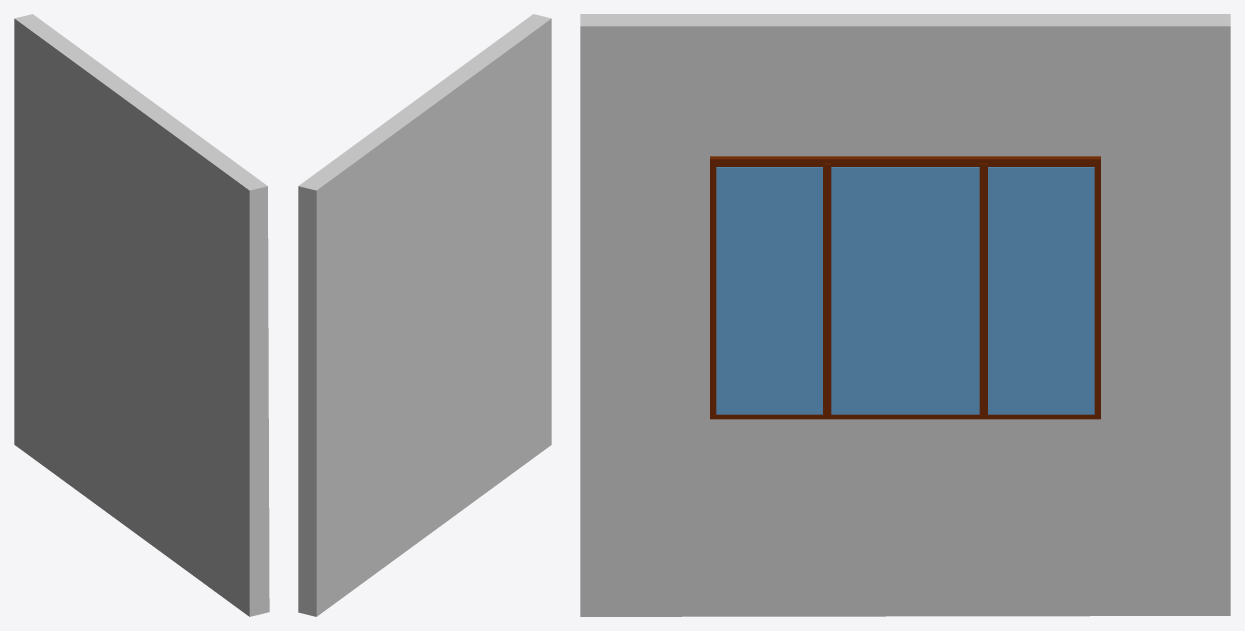
File: window2.fbx
3 renders of one model, left to right at view 1: azimuth 30°, elevation 25°; view 2: azimuth 150°, elevation 25°; view 3: azimuth 270°, elevation 25°, orthographic. The views are drawn at different scales.
Visible parts, largest first — view 1: Cube.010; view 2: Cube.010; view 3: Cube.010, Cube, Cube.001, Cube.002, Cube.003.
Part boxes in pixels (box(x1,y1,x2,y2)): Cube.010: box(14, 14, 269, 616); Cube.010: box(298, 14, 551, 616); Cube.010: box(580, 14, 1230, 616); Cube: box(716, 167, 1094, 414); Cube.001: box(710, 156, 1100, 419); Cube.002: box(979, 163, 987, 416); Cube.003: box(823, 163, 831, 416).
Size of the model in its own units: 11.72 by 200 by 200.
